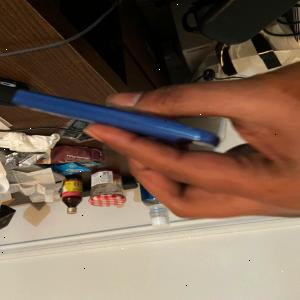Diamond-E-Ciggirate: (9, 86, 227, 156)
